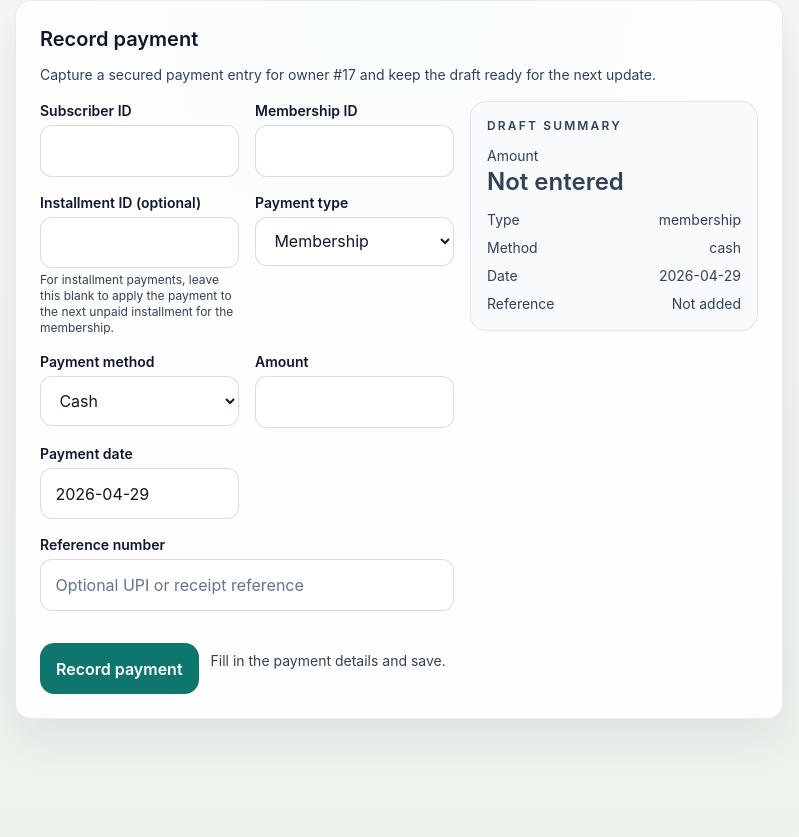
shows penalty details in the success note when the backend returns them
This screenshot has width=799, height=837.
Type "42" into the number field labelled "Subscriber ID" at [140, 151], box [40,125,239,177]
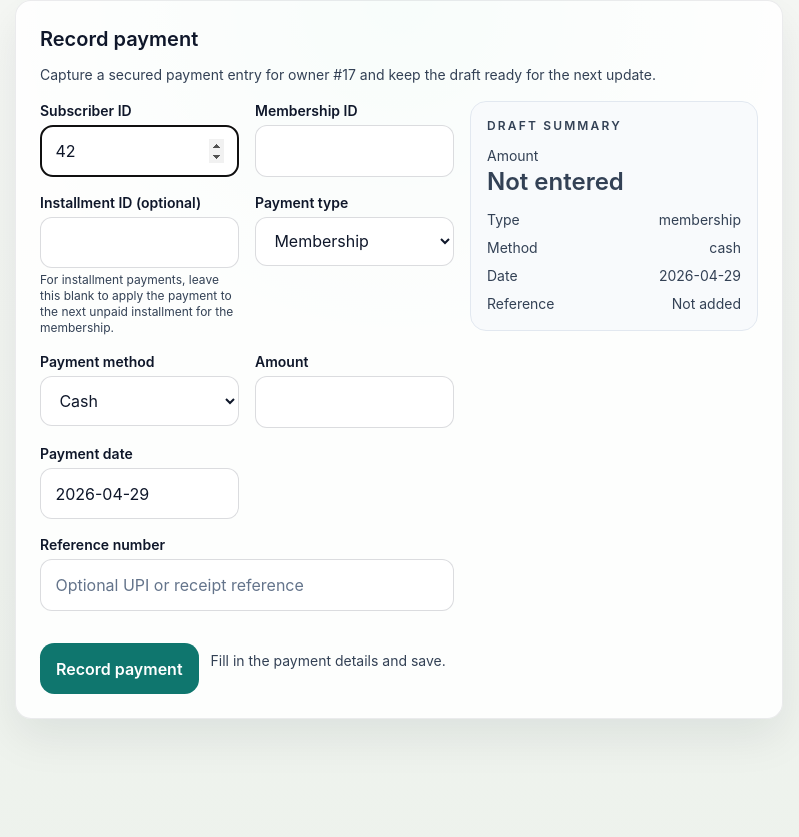
Type "1250" into the number field labelled "Amount" at [354, 402], box [255,376,454,428]
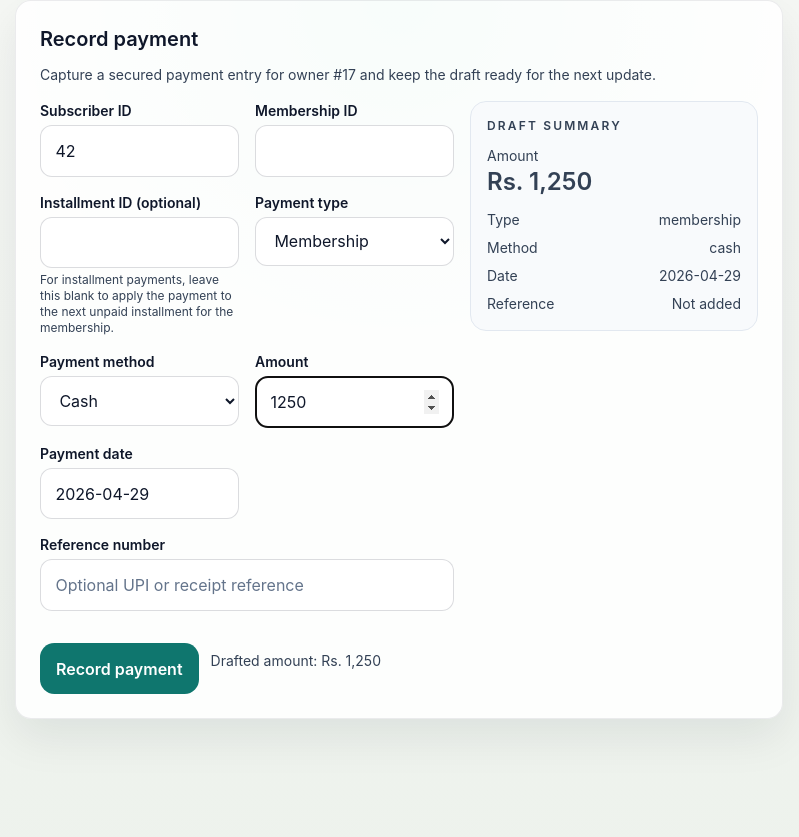
Click the button "Record payment" at [119, 669], box [40,643,199,694]
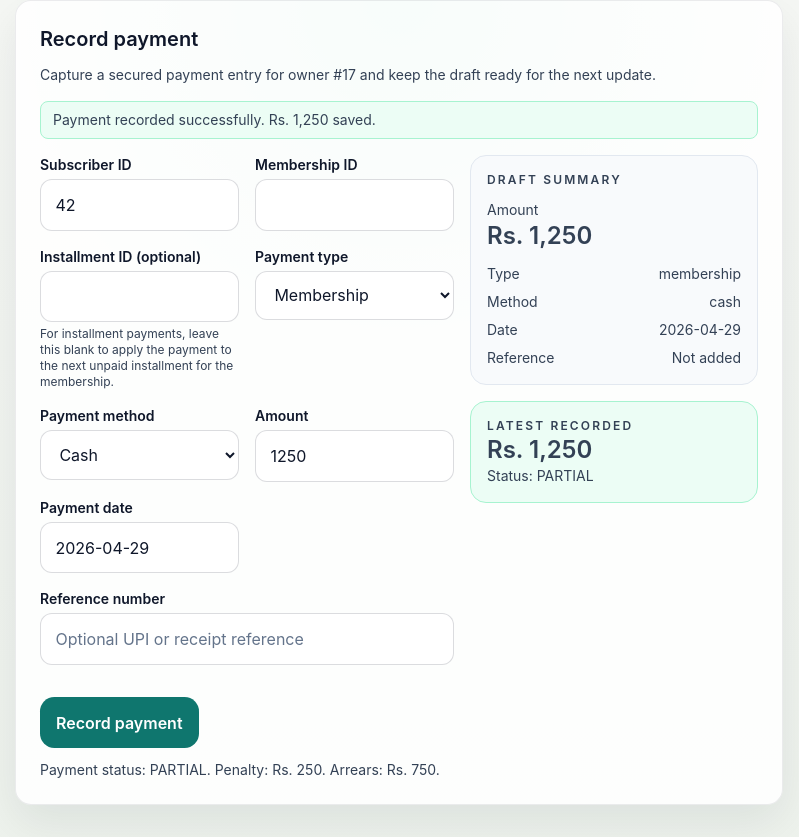
Check: the text "Payment recorded successfully. Rs. 1,250 saved." is shown, box [40,101,758,139]
Check: the text "Payment status: PARTIAL. Penalty: Rs. 250. Arrears: Rs. 750." is shown, box [40,760,440,780]
